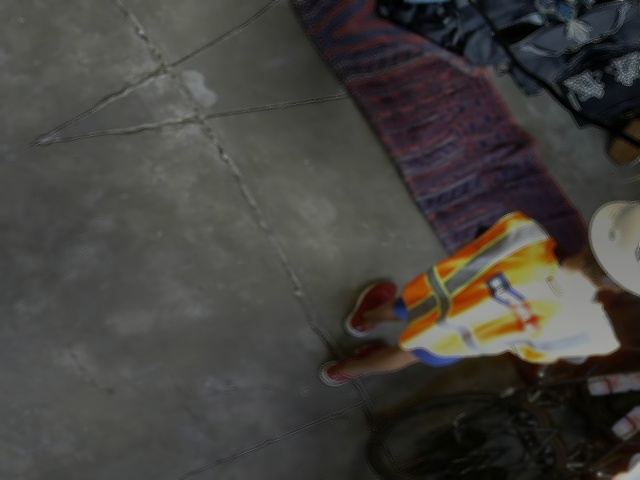eight: (627, 218, 639, 273)
